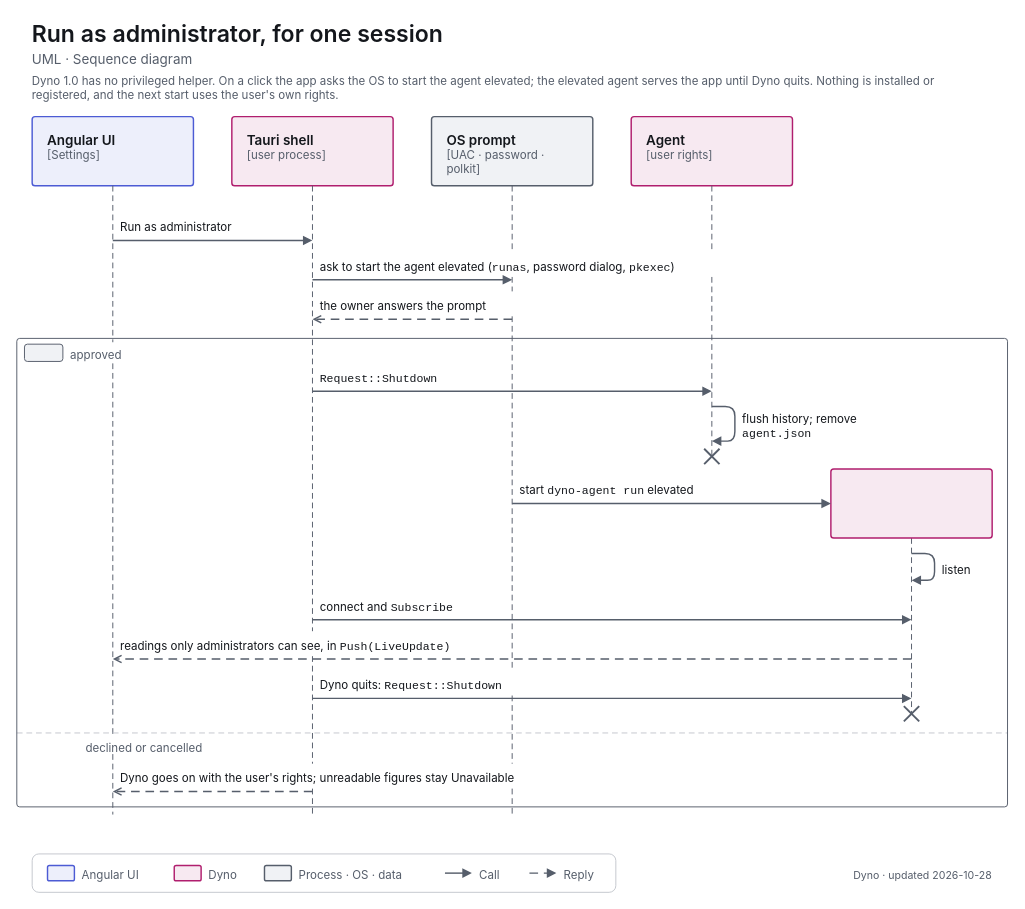
This 1025x909 diagram has some shape labels left out. Here are the shapes that lost their labels. From the top down, the box of each, then its label:
(24, 343, 63, 361): alt
(830, 468, 992, 538): Agent (elevated) [until Dyno quits]
